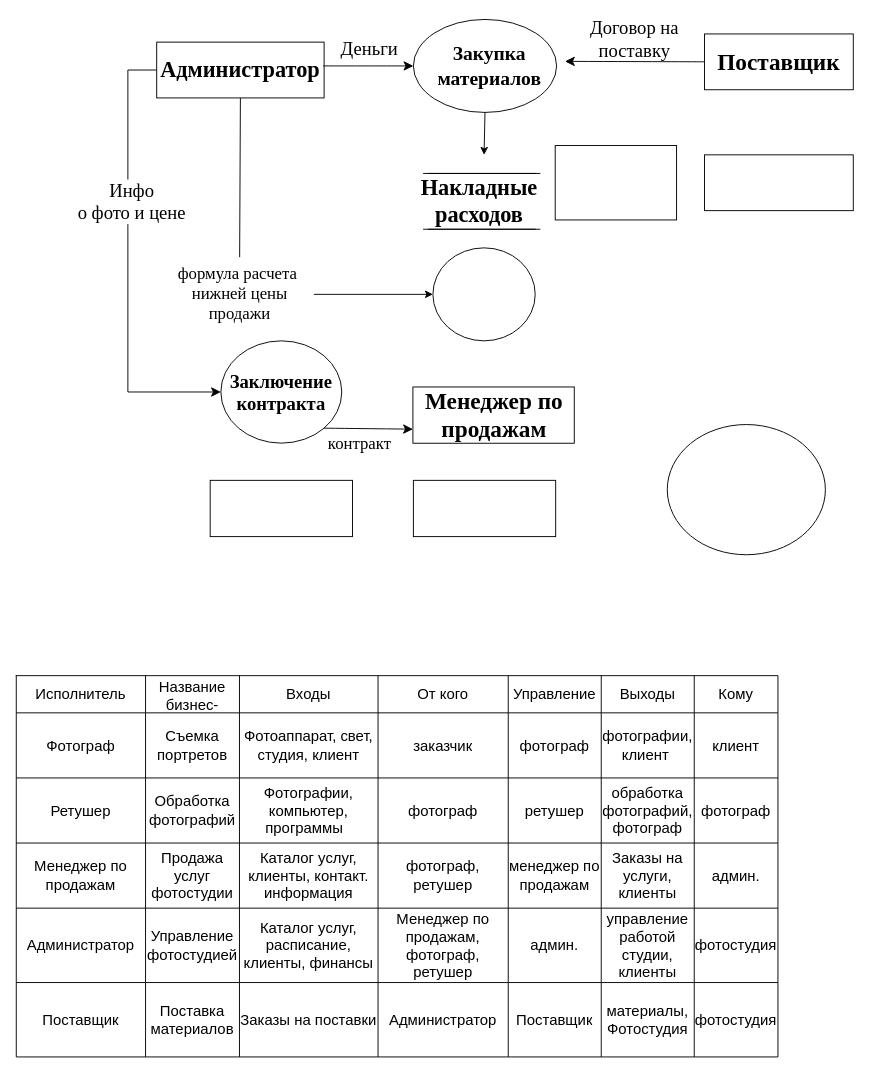
Some shapes in this 870 by 1073 pixel diagram are drawn without their labels. Each missing label, with the centre of its shape:
"Оценка продукта" goes at (x=483, y=294).
"Фотографии" goes at (x=615, y=182).
